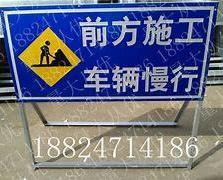sign: (2, 4, 214, 103)
